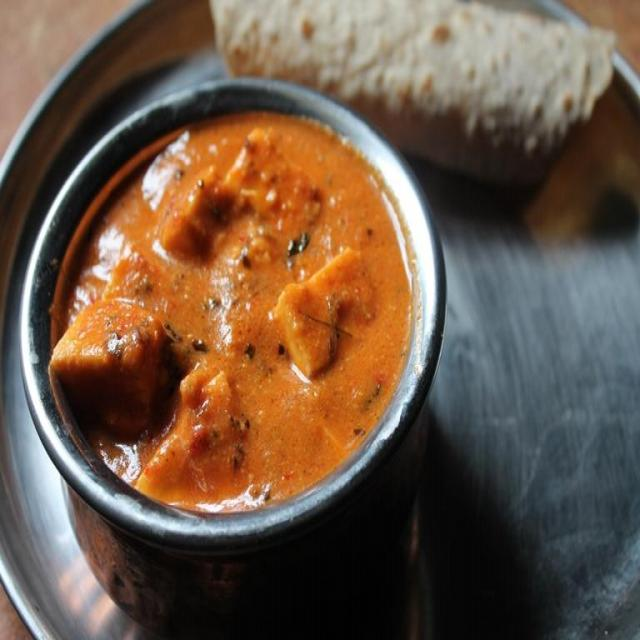roti: (210, 0, 606, 102)
